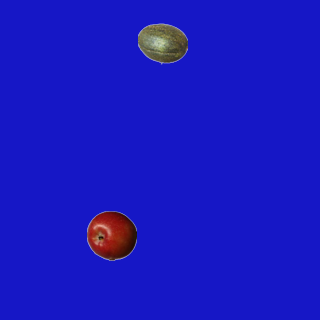Apple Braeburn: (86, 210, 136, 260)
Melon Piel de Sapo: (137, 18, 187, 68)
